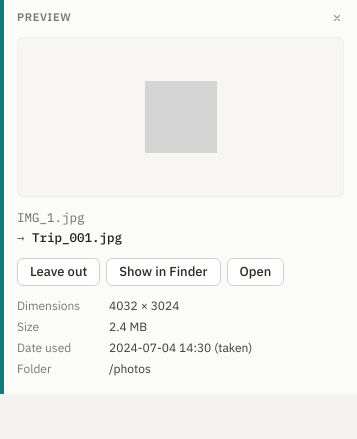
PreviewPanel › shows the file in Finder and opens it, and reports a failure
Step 1. Click the button "Show in Finder" → (163, 272), box [106,258,220,286]
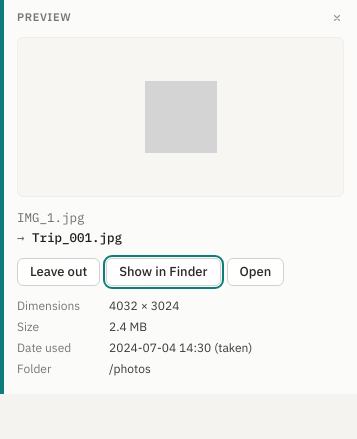
Step 2. Click the button "Open" → (255, 272), box [226,258,284,286]
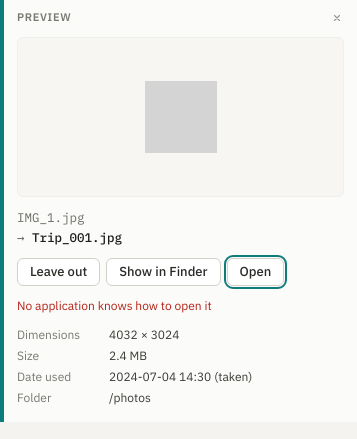
Now the message reads "No application knows how to open it", box [17,298,212,313]
